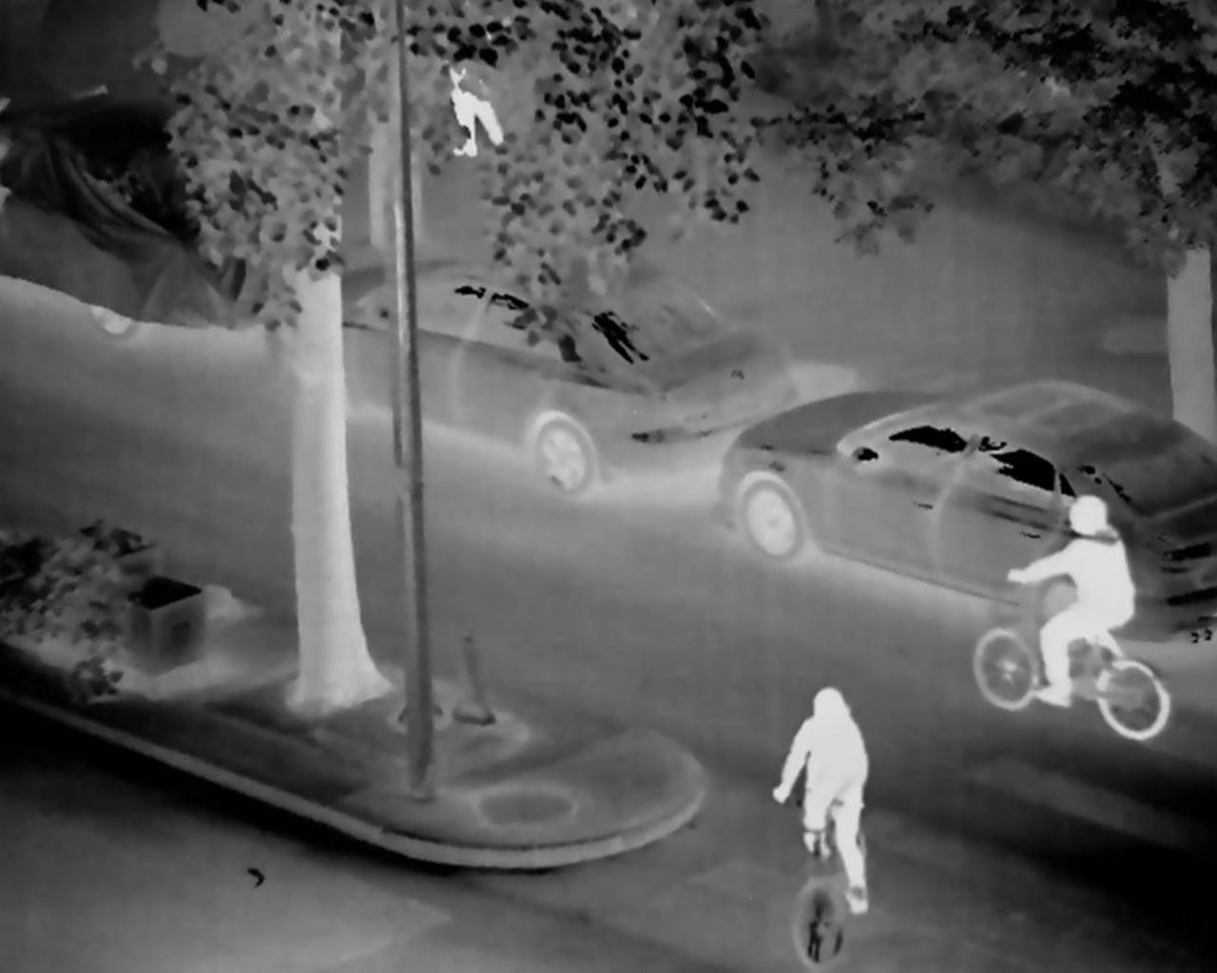person: (1002, 490, 1132, 725), (770, 681, 879, 920), (443, 46, 512, 160)
